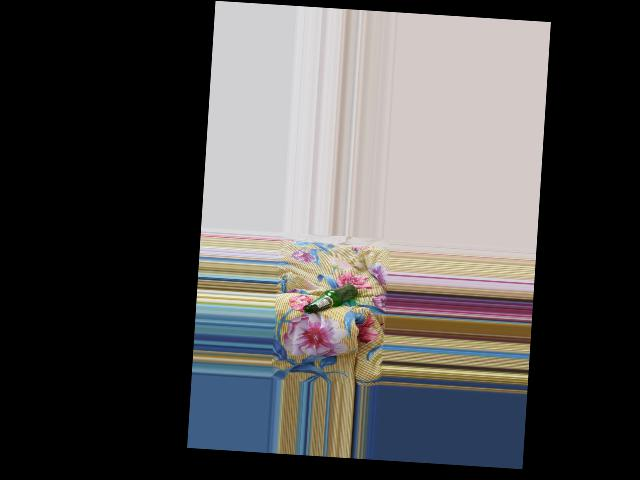beer: (303, 282, 357, 317)
